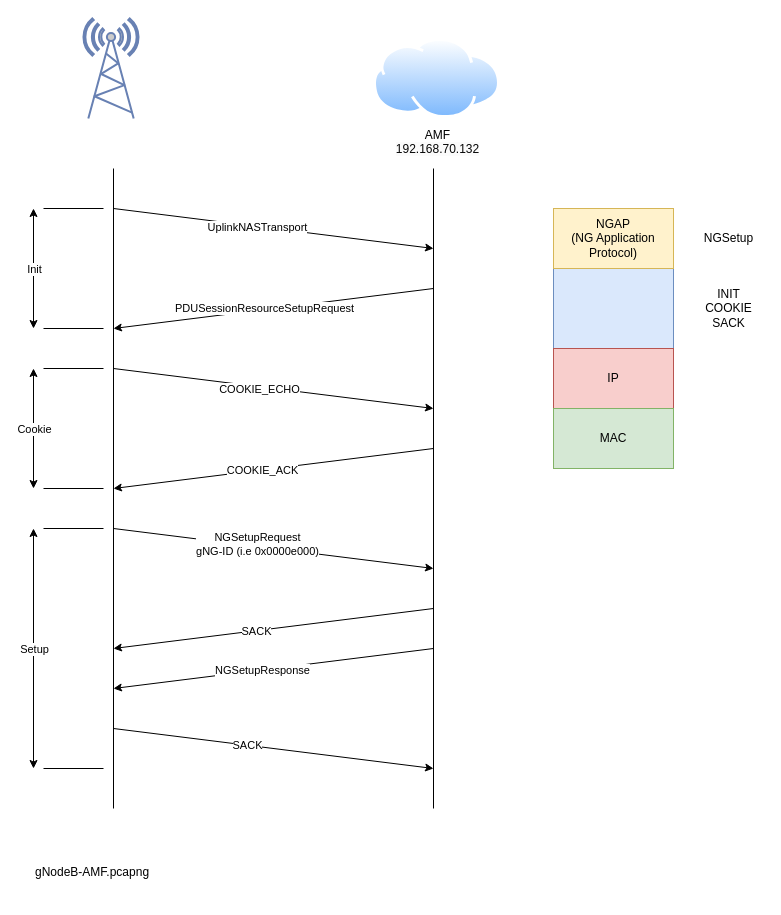
Some shapes in this 781 by 915 pixel diagram are drawn without their labels. The centre of each missing label's shape, as x and y in pixels:
gNodeB 192.168.70.129: (x=110, y=68)
SCTP (Stream Control Transmission Protocol): (x=613, y=308)
